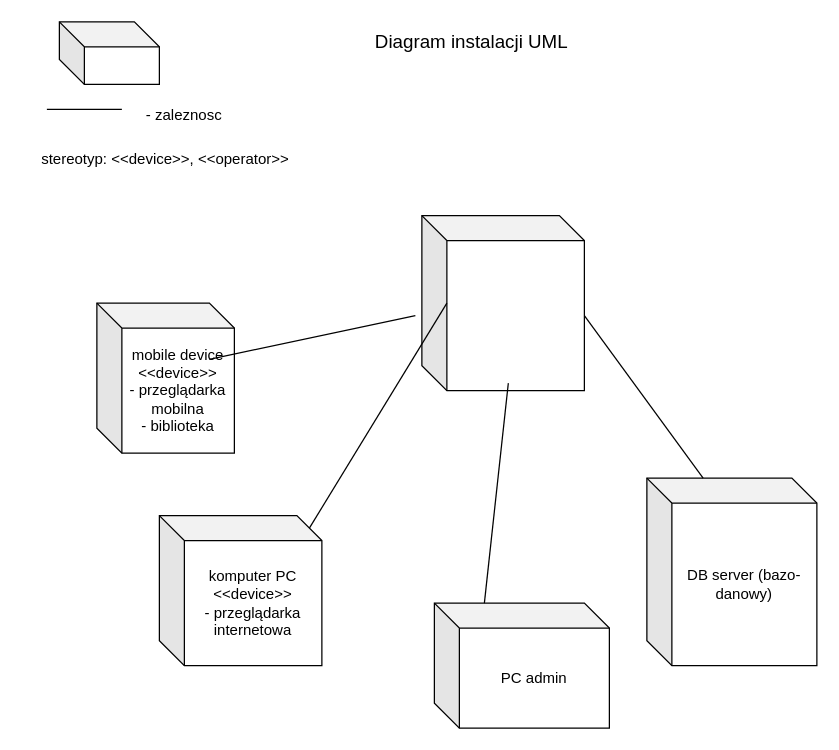
The diagram is 839 pixels wide and 750 high, and some of its shapes have lost their labels. The shapes that lost their labels are listed below. From the top down, each one's box as (x1, y1, x2, y2) in pixels, then its label:
(58, 21, 159, 84): nazwa
(421, 214, 584, 391): app server
